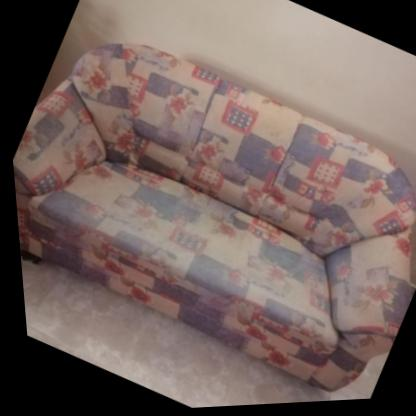Ceramic floor: (16, 256, 380, 410)
Sofa: (1, 0, 416, 416)
